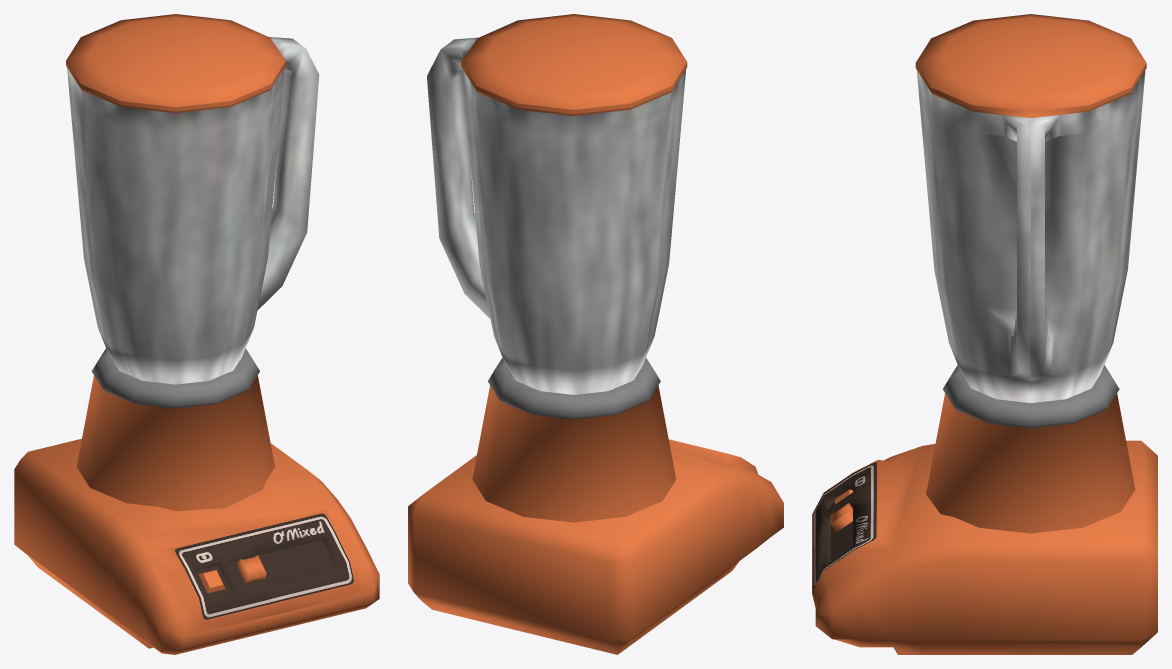
The model's file is Mixer.glb.
The picture shows the model from 3 angles, left to right: view 1: azimuth 30°, elevation 25°; view 2: azimuth 150°, elevation 25°; view 3: azimuth 270°, elevation 25°; orthographic projection. The views are drawn at different scales.
Parts seen in each view (by area): view 1: Cube; view 2: Cube; view 3: Cube.
Boxes of the visible parts, box(x1,y1,x2,y2) form: Cube: box(14, 14, 379, 654); Cube: box(408, 14, 783, 654); Cube: box(812, 14, 1157, 654).
Bounding box in the file's own units: 0.7931 × 1.65 × 0.919.
2 materials, 1 textured.
